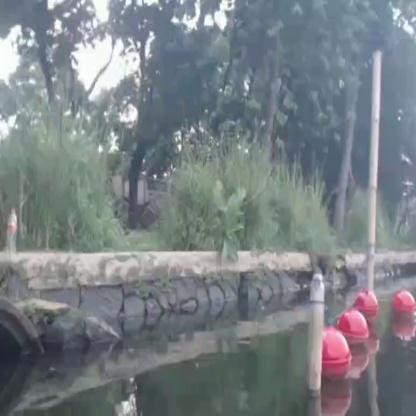red_buoy: (341, 309, 369, 358), (323, 328, 348, 382), (390, 290, 415, 328), (359, 290, 379, 324)
